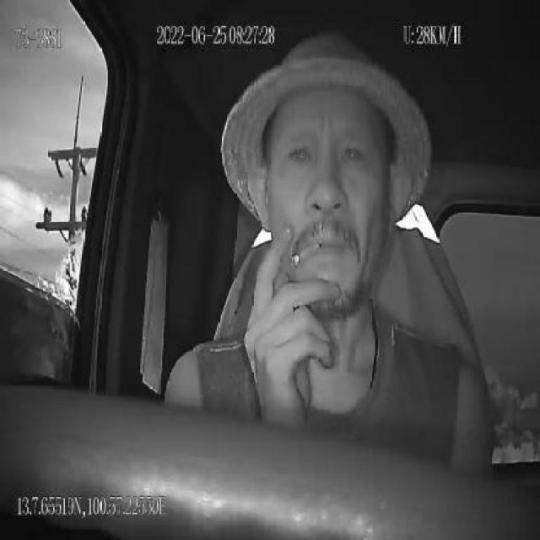smoking: (290, 234, 322, 270)
